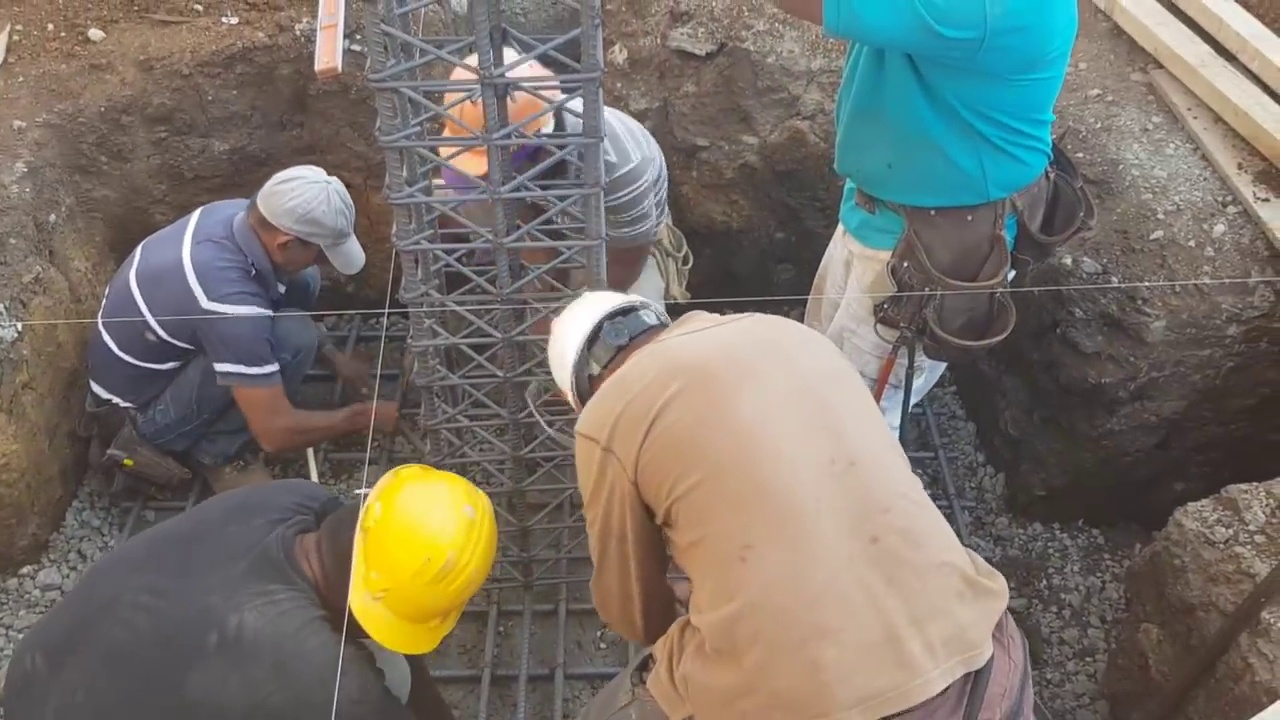helmet: (351, 456, 498, 654), (432, 42, 564, 179), (548, 285, 667, 415)
helmet-off: (244, 166, 363, 281)
helmet-on: (295, 459, 494, 657), (433, 40, 566, 225), (545, 281, 691, 414)
person: (545, 283, 1043, 720), (0, 463, 505, 720), (784, 0, 1076, 413), (92, 158, 427, 503), (420, 36, 692, 298)
